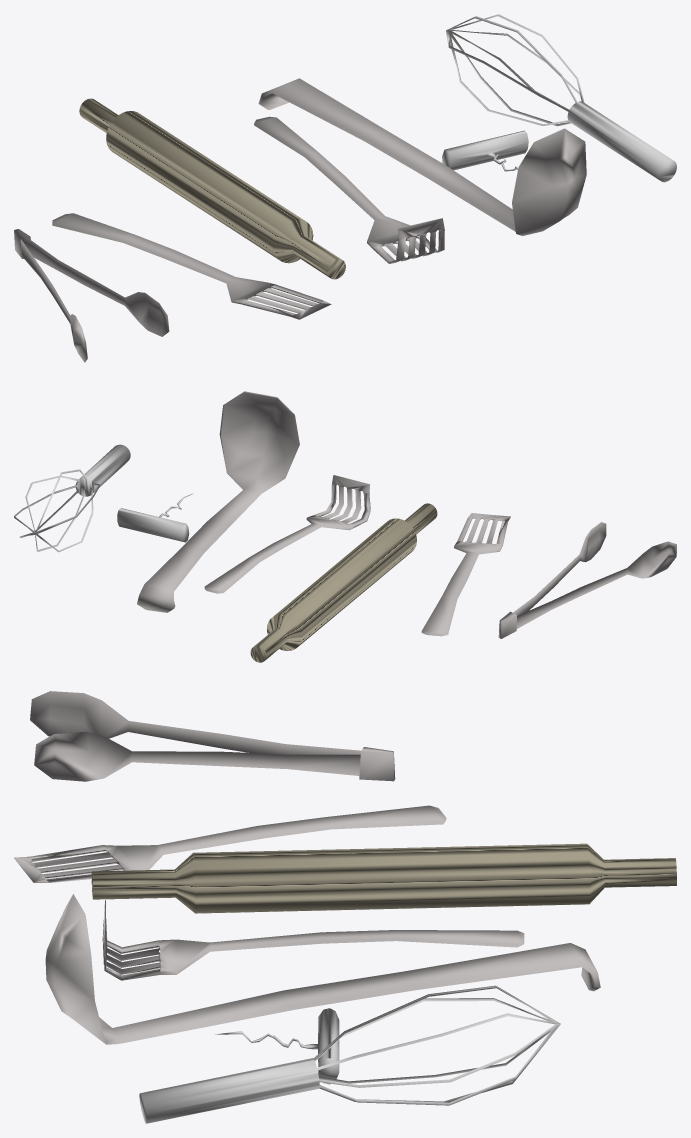
File: Utensils.fbx
The picture shows the model from 3 angles, top to bottom: view 1: azimuth 30°, elevation 25°; view 2: azimuth 150°, elevation 25°; view 3: azimuth 270°, elevation 25°; orthographic projection. The views are drawn at different scales.
Parts seen in each view (by area): view 1: Circle.002, EmptyMesh, Circle.003, EmptyMesh.001, EmptyMesh.002, EmptyMesh.003, Cylinder; view 2: EmptyMesh, Circle.002, EmptyMesh.003, EmptyMesh.001, EmptyMesh.002, Circle.003, Cylinder; view 3: Circle.002, EmptyMesh, EmptyMesh.003, Circle.003, EmptyMesh.002, EmptyMesh.001, Cylinder.
Boxes of the visible parts, x1,y1,x2,y2 form: Circle.002: [79, 98, 345, 279]; EmptyMesh: [258, 78, 586, 235]; Circle.003: [446, 14, 676, 182]; EmptyMesh.001: [254, 116, 444, 263]; EmptyMesh.002: [52, 213, 331, 319]; EmptyMesh.003: [14, 229, 169, 362]; Cylinder: [442, 130, 528, 171]; EmptyMesh: [137, 391, 299, 612]; Circle.002: [250, 503, 437, 662]; EmptyMesh.003: [498, 522, 676, 638]; EmptyMesh.001: [204, 475, 370, 593]; EmptyMesh.002: [421, 513, 510, 636]; Circle.003: [14, 444, 130, 552]; Cylinder: [117, 493, 193, 542]; Circle.002: [91, 843, 676, 913]; EmptyMesh: [45, 894, 600, 1044]; EmptyMesh.003: [30, 691, 395, 781]; Circle.003: [139, 985, 560, 1123]; EmptyMesh.002: [14, 805, 446, 882]; EmptyMesh.001: [102, 900, 524, 980]; Cylinder: [215, 1008, 339, 1084].
Size of what is drawn, in the model's own units: 839 by 138 by 589.
